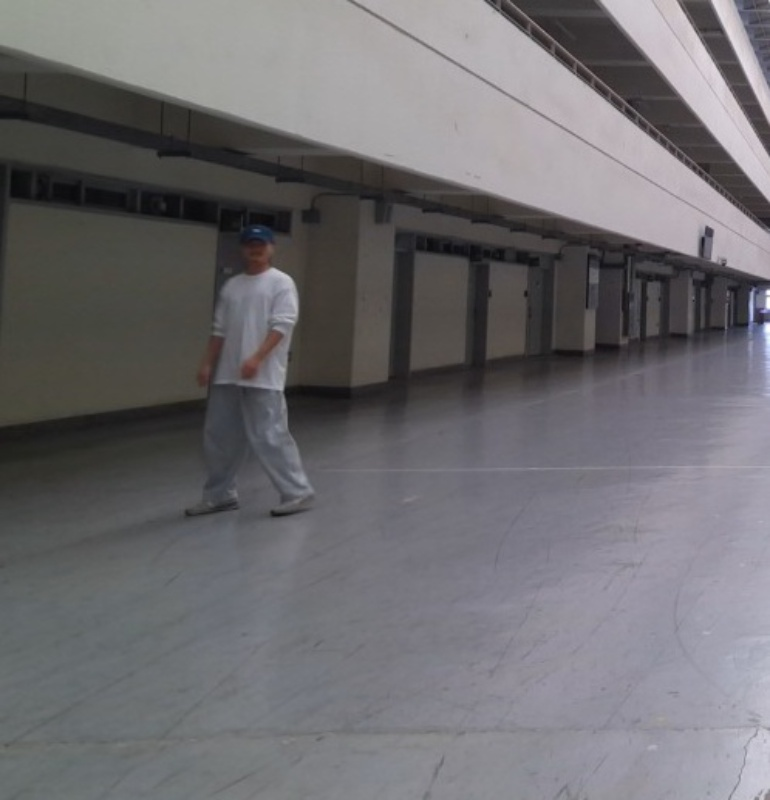person: (182, 221, 319, 520)
